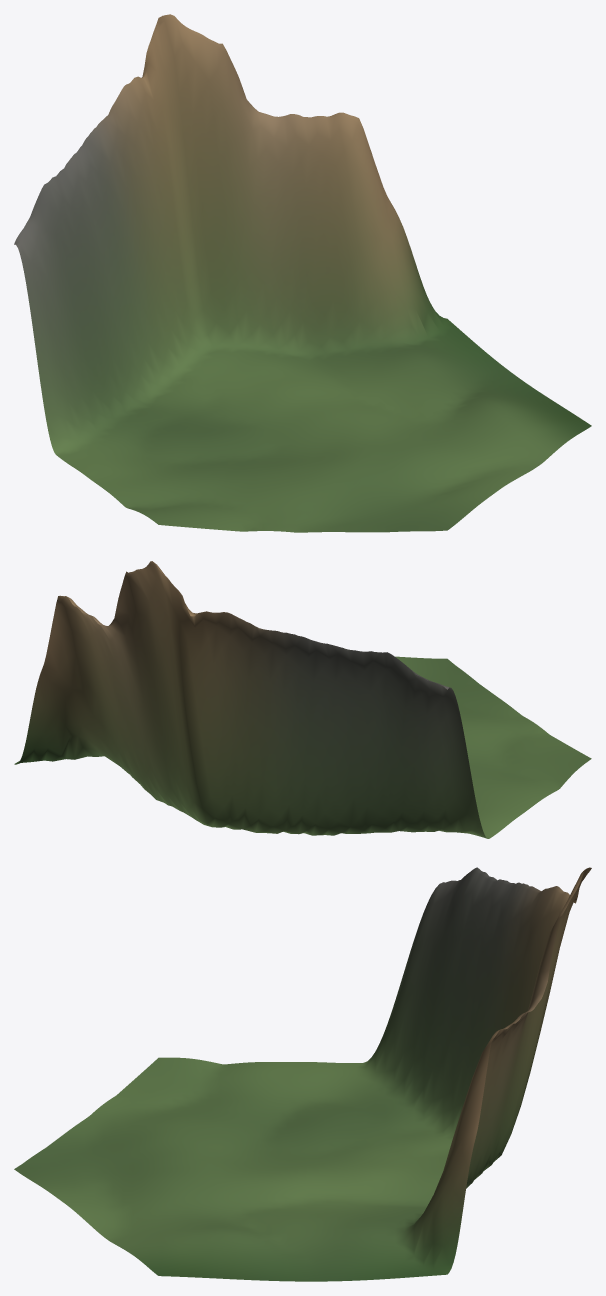
3 views of the same model, one above another, from view 1: azimuth 30°, elevation 25°; view 2: azimuth 150°, elevation 25°; view 3: azimuth 270°, elevation 25° (orthographic).
Parts seen in each view (by area): view 1: JS_-3_10; view 2: JS_-3_10; view 3: JS_-3_10.
Part boxes in pixels (x1,y1,x2,y2): JS_-3_10: (14,14,591,532); JS_-3_10: (14,561,591,838); JS_-3_10: (14,867,591,1281).
Bounding box in the file's own units: 4330 × 2972 × 5000.
